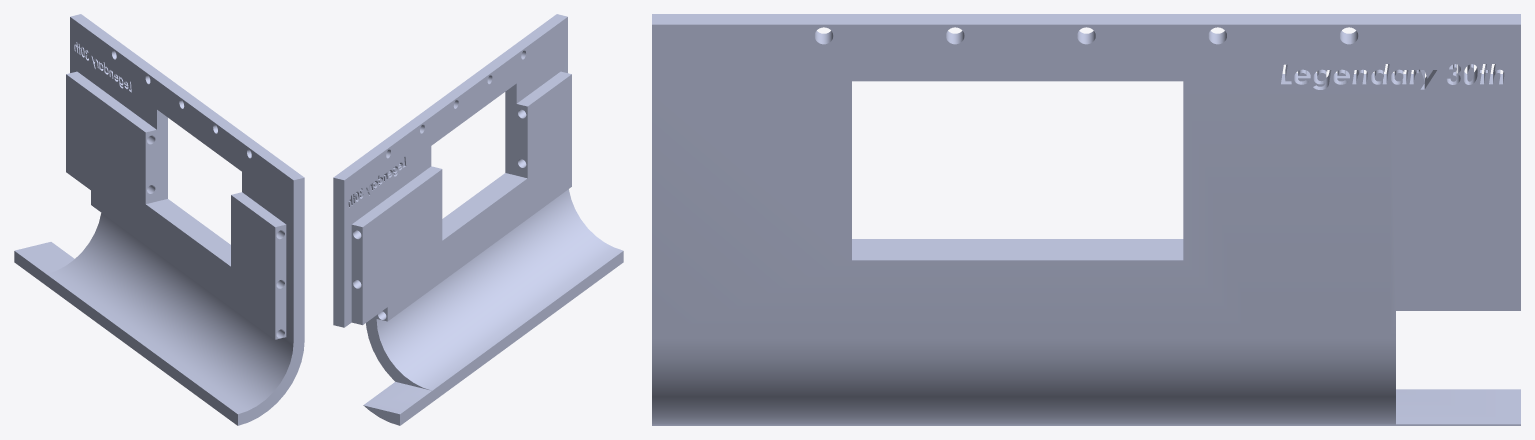
The model's file is body_rear_1.dae.
3 renders of one model, left to right at view 1: azimuth 30°, elevation 25°; view 2: azimuth 150°, elevation 25°; view 3: azimuth 270°, elevation 25°, orthographic. The views are drawn at different scales.
Visible parts, largest first — view 1: node0; view 2: node0; view 3: node0.
Part boxes in pixels (x1=…): node0: x1=14, y1=14, x2=304, y2=425; node0: x1=333, y1=14, x2=623, y2=425; node0: x1=652, y1=14, x2=1520, y2=425.
Bounding box in the file's own units: 0.024 × 0.0796 × 0.139.
